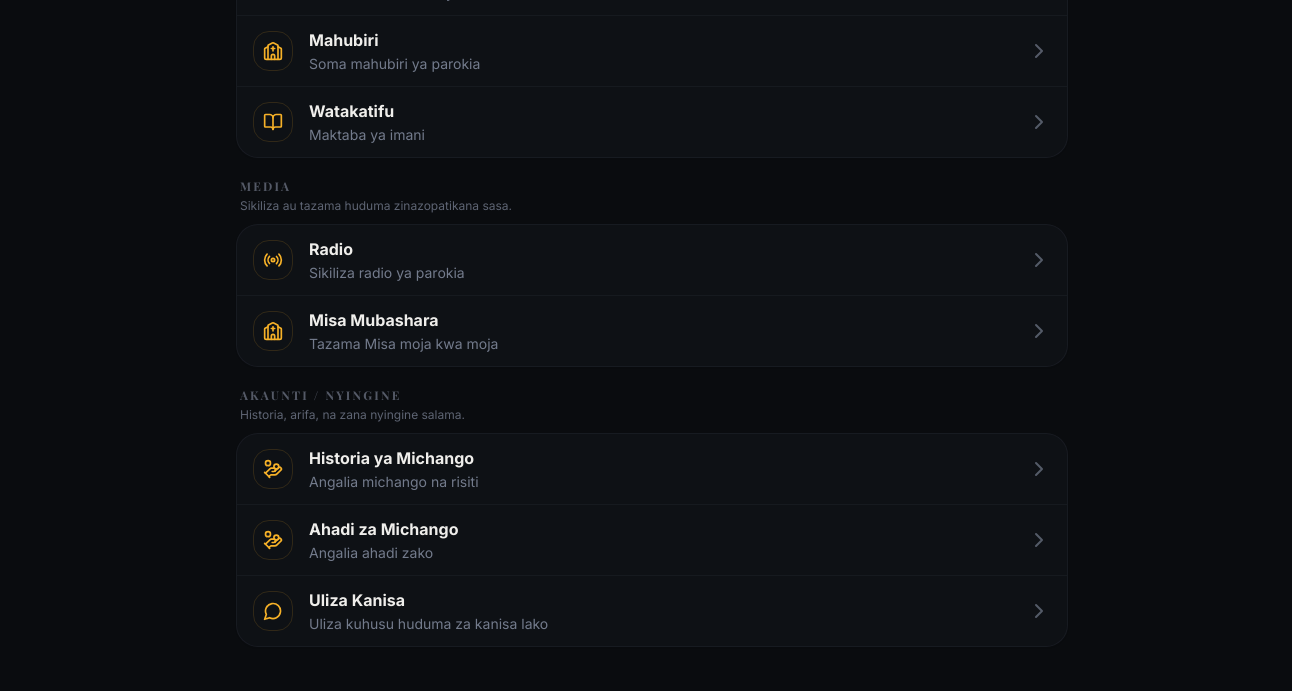
Test: member Livestream Services discoverability › shows an eligible live stream and routes directly to its detail page
(page scrolled)
Click the link to "/portal/live/stream-a".
click(273, 331)  # box [237,296,1067,366]
(page scrolled)
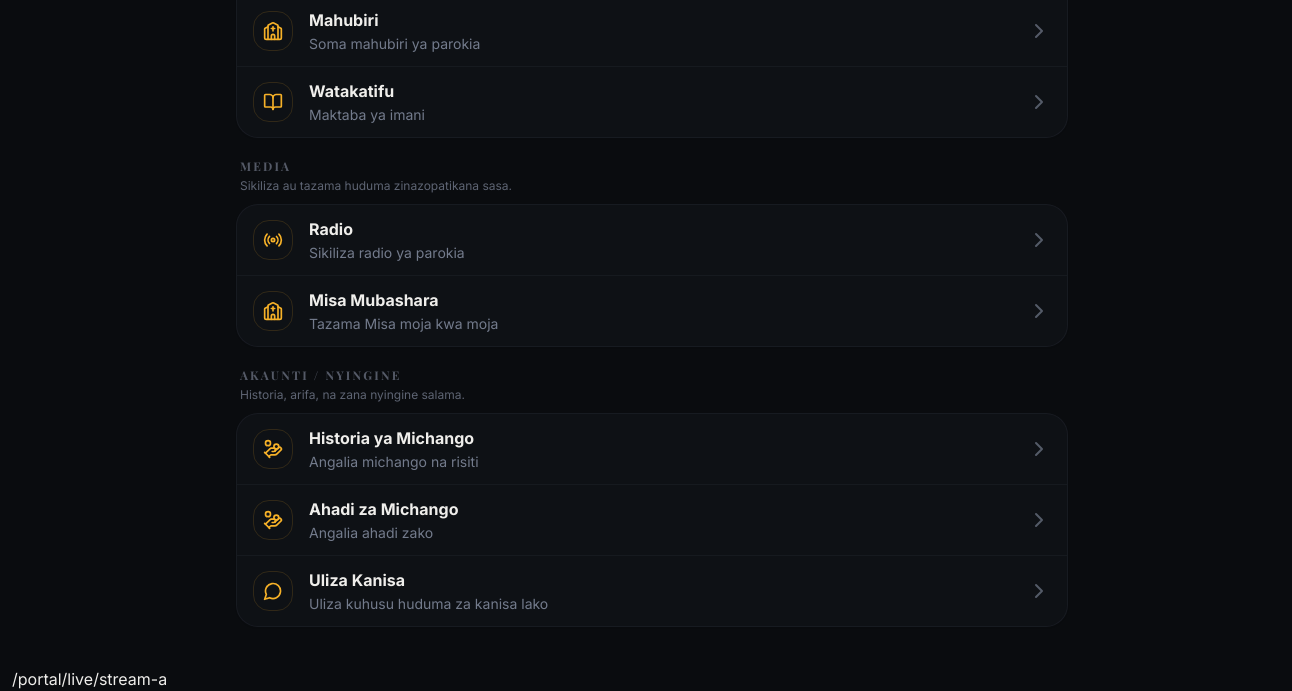
Check: the text with test id "location" reads "/portal/live/stream-a", box [12,669,167,689]
